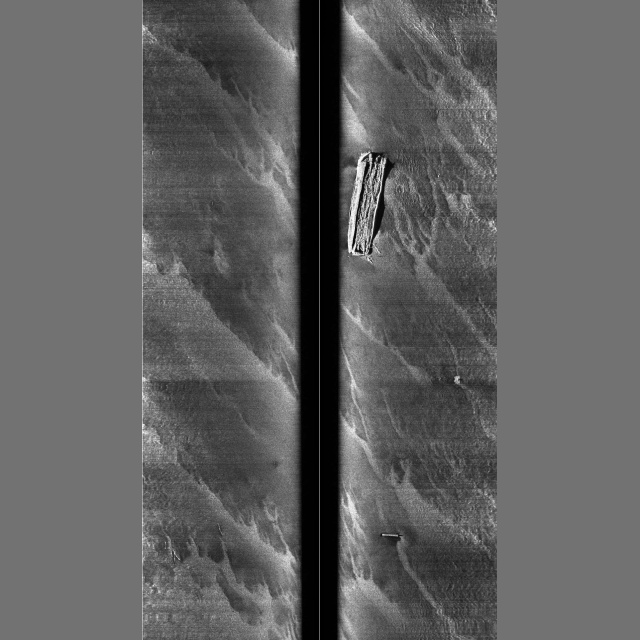Shipwreck: (173, 149, 399, 567)
